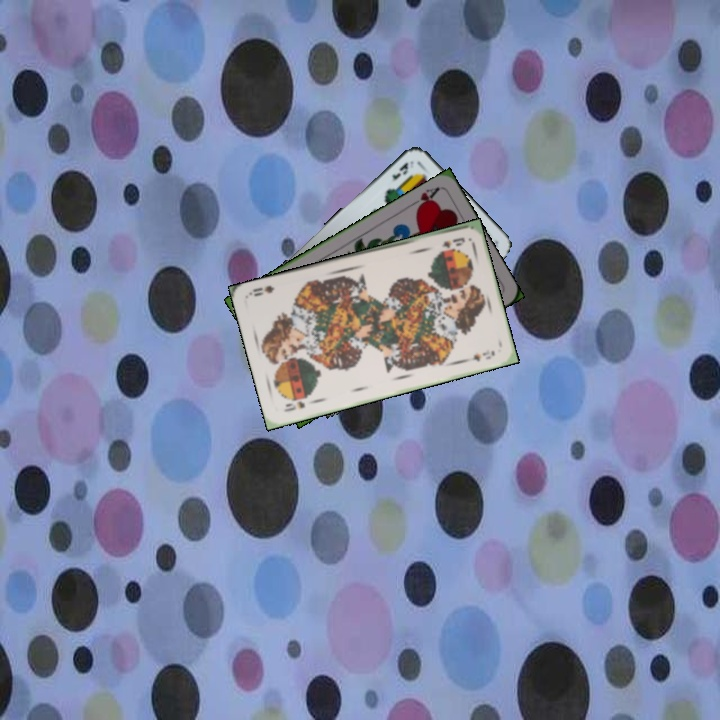EK: (388, 156, 416, 183)
HA: (405, 183, 442, 214)
SO: (438, 233, 468, 251), (280, 397, 308, 414)
